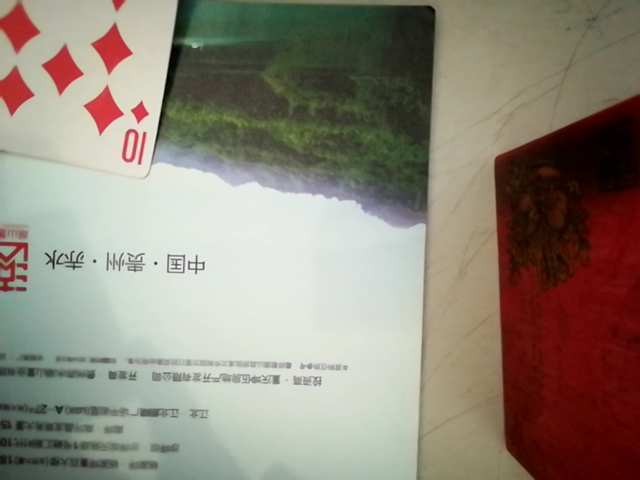fk 10: (4, 0, 193, 172)
